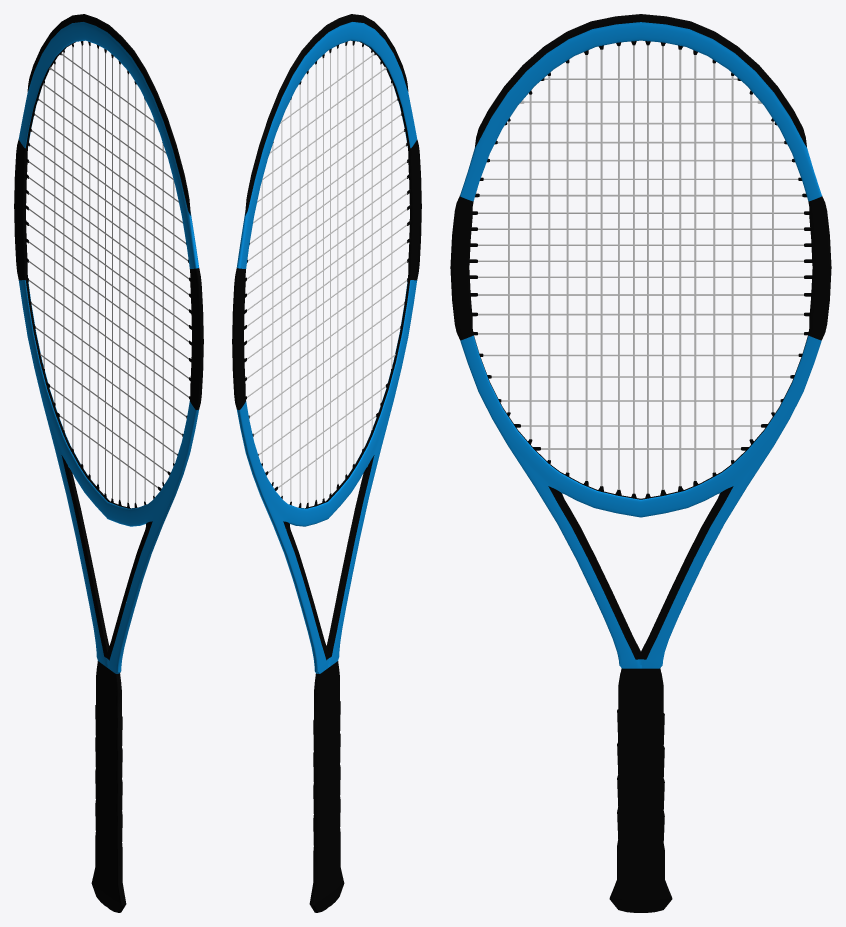
Rendered from Tennis_racket.glb.
3 views of the same model, side by side, from view 1: azimuth 30°, elevation 25°; view 2: azimuth 150°, elevation 25°; view 3: azimuth 270°, elevation 25° (orthographic).
Parts seen in each view (by area): view 1: Tennis Racketzz; view 2: Tennis Racketzz; view 3: Tennis Racketzz.
Boxes of the visible parts, x1=… form: Tennis Racketzz: x1=14, y1=14, x2=203, y2=912; Tennis Racketzz: x1=232, y1=14, x2=421, y2=912; Tennis Racketzz: x1=450, y1=14, x2=831, y2=912.
Bounding box in the file's own units: 0.1551 × 24.99 × 9.61.
